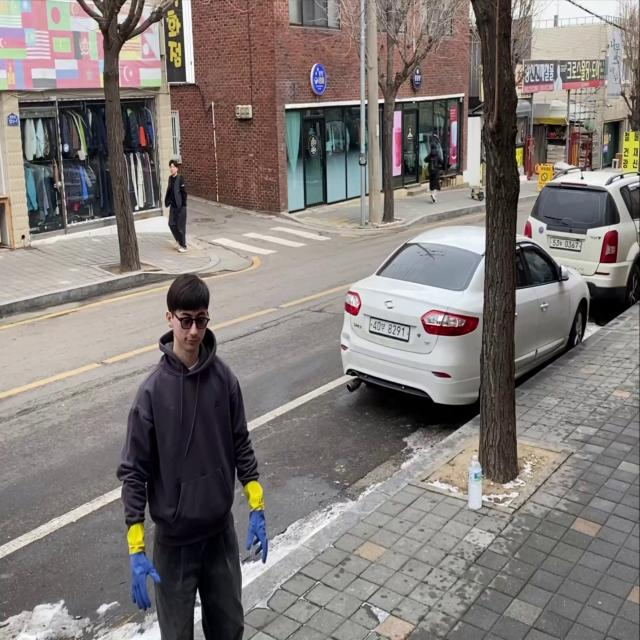gloved_hand: (128, 552, 164, 614), (246, 508, 272, 565)
